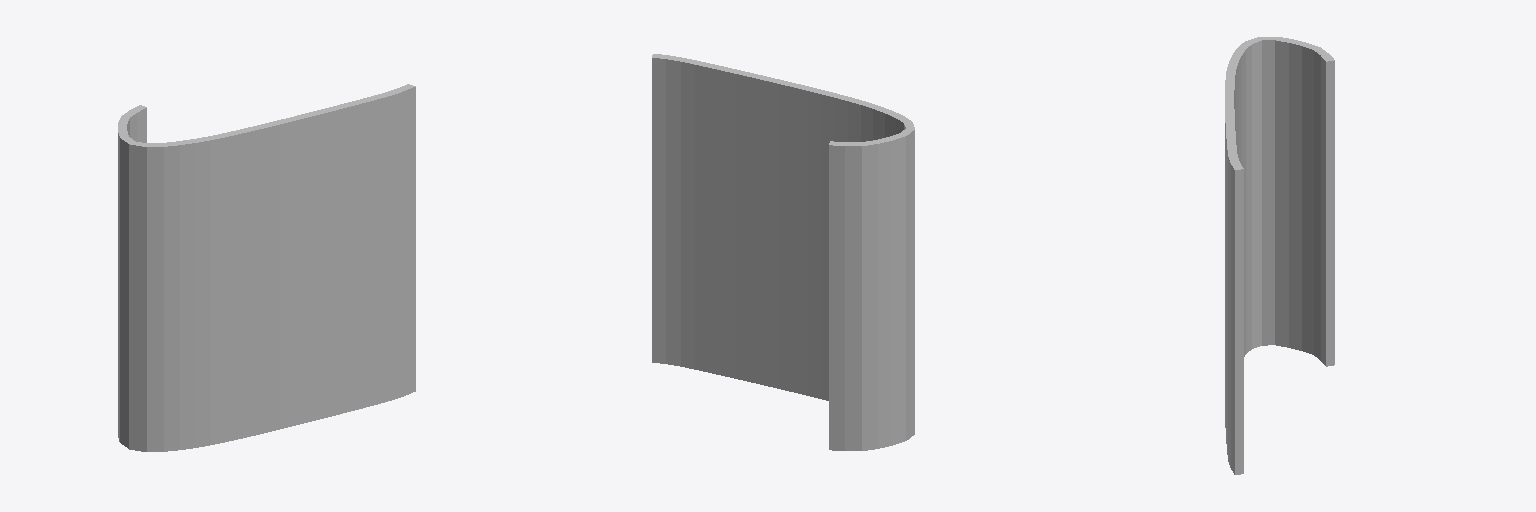
The model's file is EdgeFold0.obj.
3 renders of one model, left to right at view 1: azimuth 30°, elevation 25°; view 2: azimuth 150°, elevation 25°; view 3: azimuth 270°, elevation 25°, orthographic.
Visible parts, largest first — view 1: Cube_Cube.001; view 2: Cube_Cube.001; view 3: Cube_Cube.001.
Boxes of the visible parts, x1=… form: Cube_Cube.001: x1=118, y1=84, x2=415, y2=451; Cube_Cube.001: x1=652, y1=54, x2=914, y2=450; Cube_Cube.001: x1=1225, y1=37, x2=1334, y2=474.
Size of the model in its own units: 4.48 by 4.75 by 1.56.